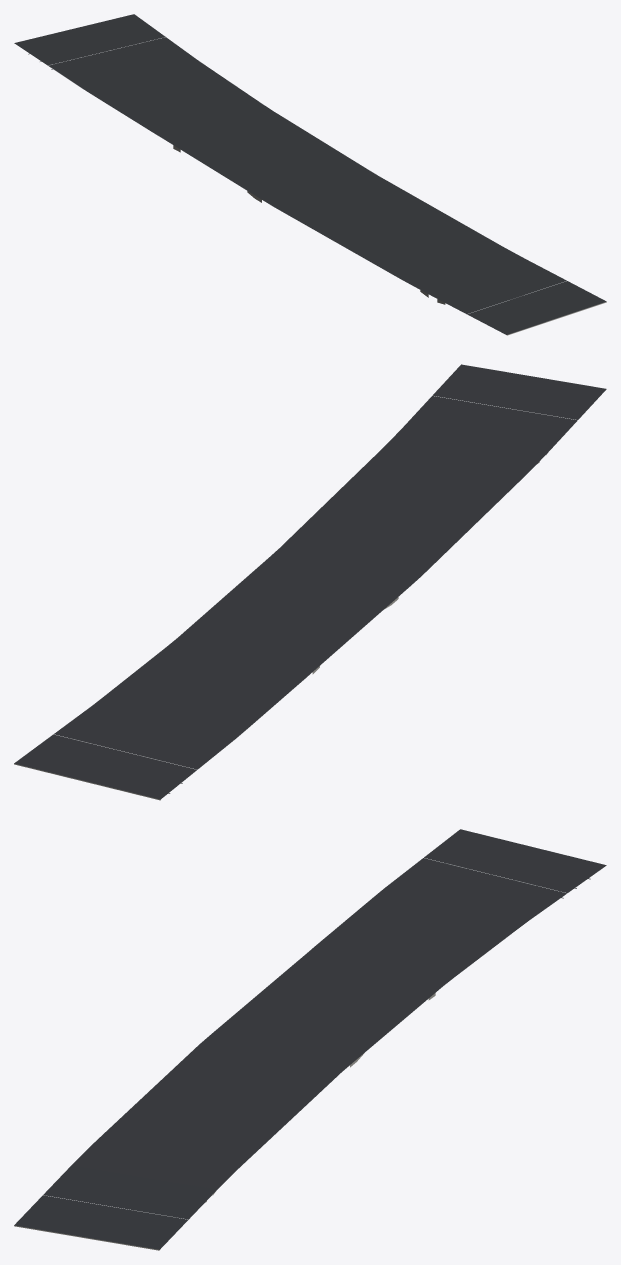
Rendered from br_r6_quesnell_1_lod3.gltf.
3 views of the same model, one above another, from view 1: azimuth 30°, elevation 25°; view 2: azimuth 150°, elevation 25°; view 3: azimuth 330°, elevation 25° (orthographic). The views are drawn at different scales.
Visible parts, largest first — view 1: br_r6_quesnell_1_lod3; view 2: br_r6_quesnell_1_lod3; view 3: br_r6_quesnell_1_lod3.
Part boxes in pixels (bbox=[...]): br_r6_quesnell_1_lod3: bbox=[14, 14, 606, 335]; br_r6_quesnell_1_lod3: bbox=[14, 364, 606, 800]; br_r6_quesnell_1_lod3: bbox=[14, 829, 606, 1250].
Bounding box in the file's own units: 74.57 × 4.96 × 318.
